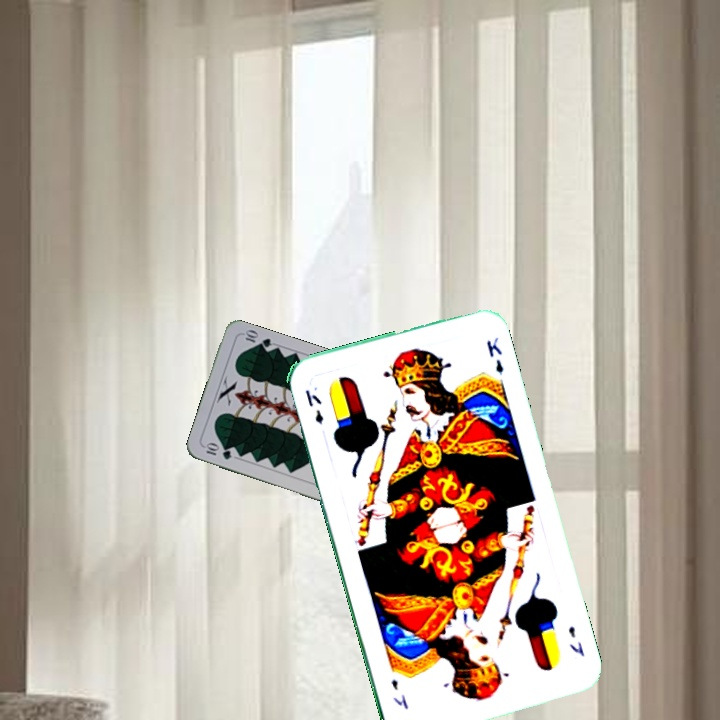EK: (301, 385, 326, 427), (564, 622, 587, 659)
G10: (201, 440, 235, 462)
